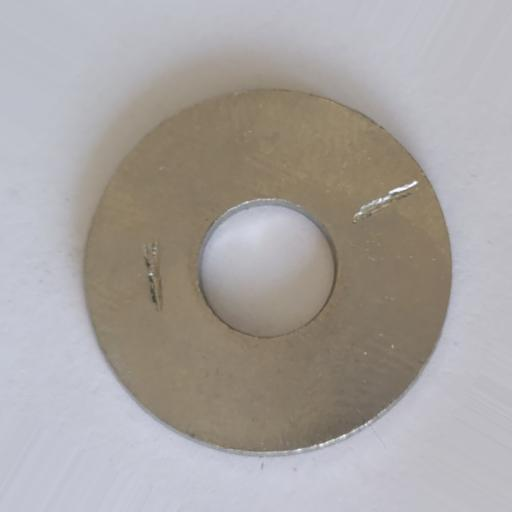scratch: (350, 179, 420, 222), (142, 239, 164, 312)
